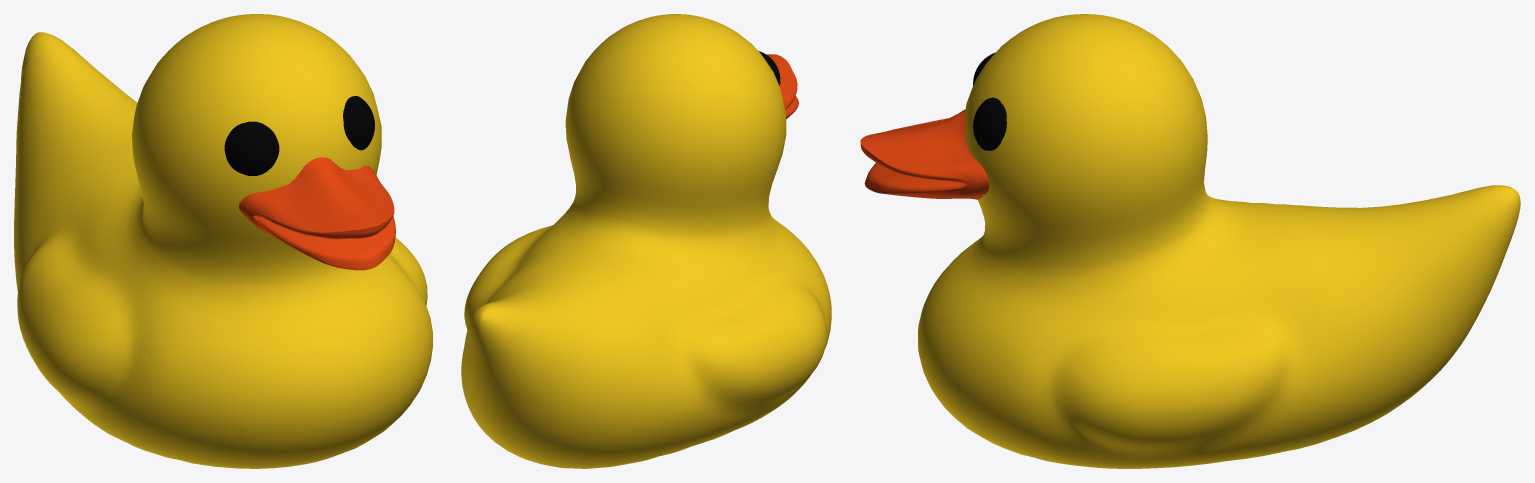
File: rubber_duck.glb
The picture shows the model from 3 angles, left to right: view 1: azimuth 30°, elevation 25°; view 2: azimuth 150°, elevation 25°; view 3: azimuth 270°, elevation 25°; orthographic projection. The views are drawn at different scales.
Parts seen in each view (by area): view 1: duck_body, duck_mouth, duck_eyes; view 2: duck_body, duck_mouth; view 3: duck_body, duck_mouth, duck_eyes.
Boxes of the visible parts, x1,y1,x2,y2 form: duck_body: (14, 14, 432, 468); duck_mouth: (239, 157, 395, 270); duck_eyes: (224, 96, 374, 175); duck_body: (461, 14, 831, 468); duck_mouth: (767, 54, 798, 119); duck_body: (918, 14, 1520, 468); duck_mouth: (860, 109, 988, 199); duck_eyes: (973, 53, 1006, 150).
Size of the model in its own units: 4.76 by 5.1 by 7.63.
Materials: 3 (3 with a texture image).
